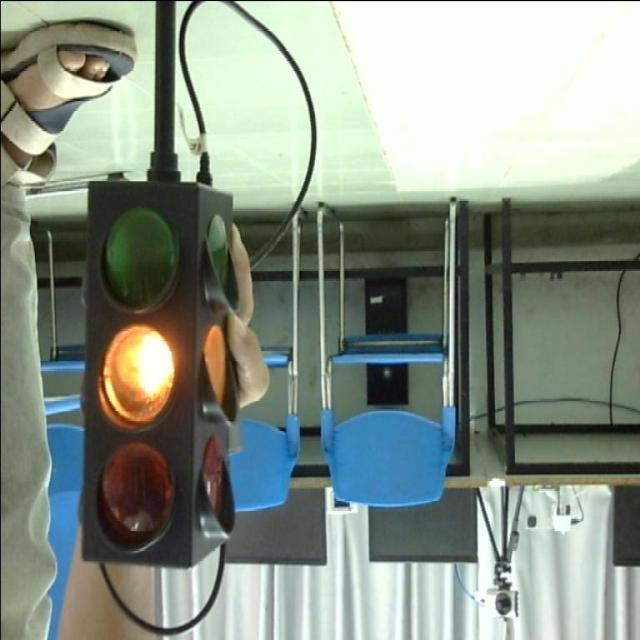yellow_light: (80, 179, 234, 565)
